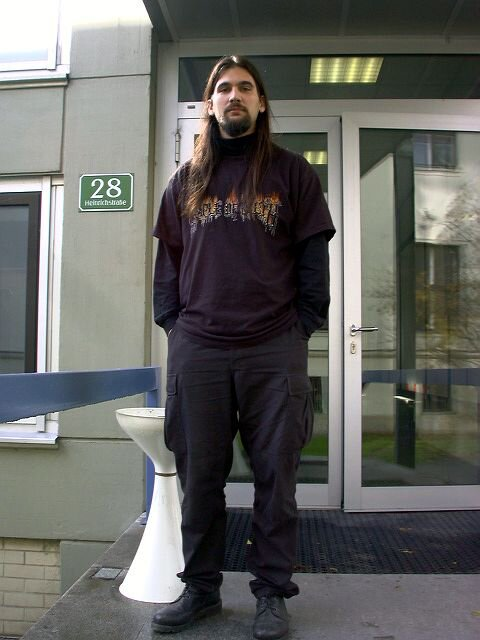person: (148, 48, 335, 640)
